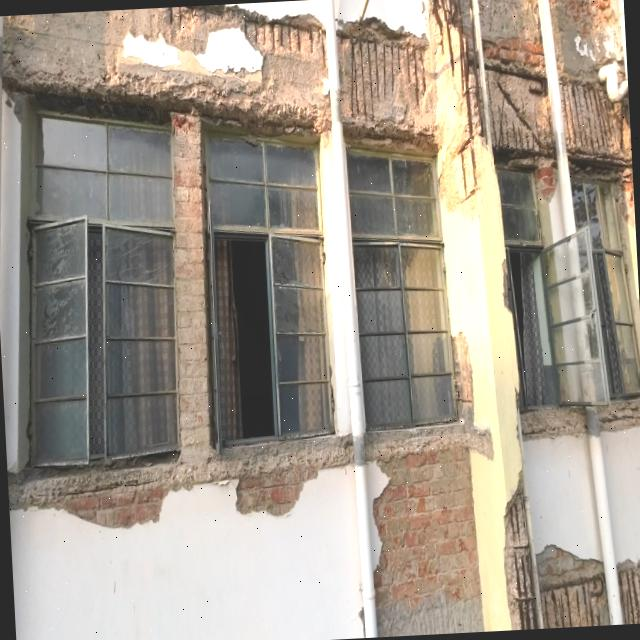Spalling: (2, 5, 331, 287), (8, 434, 353, 526), (338, 22, 441, 158), (338, 19, 425, 126), (487, 69, 554, 159), (537, 545, 609, 628), (562, 81, 632, 165), (367, 421, 492, 464), (505, 479, 537, 629), (619, 560, 640, 624), (606, 404, 640, 428)
exposed brickwork: (373, 446, 483, 634), (172, 113, 213, 465), (47, 464, 176, 527), (236, 467, 317, 515), (482, 0, 542, 62)
